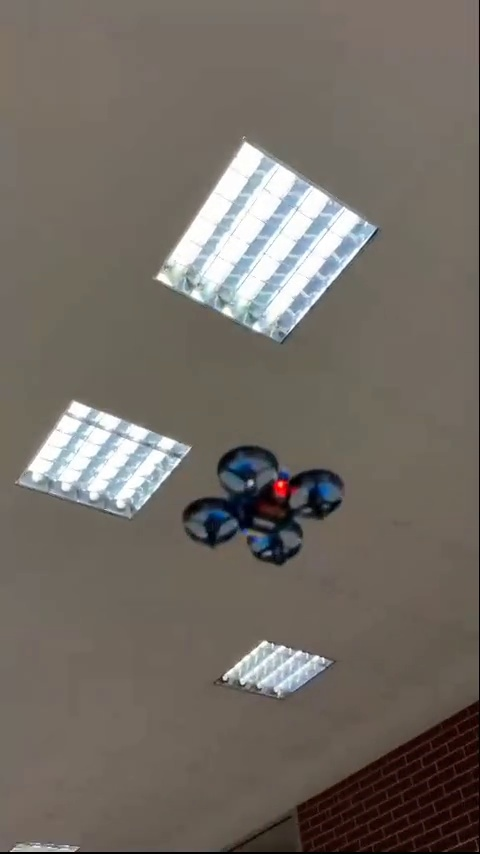drone: (190, 451, 344, 558)
